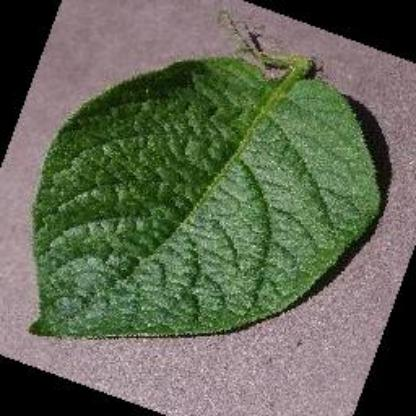Healthy-plant: (28, 51, 390, 341)
